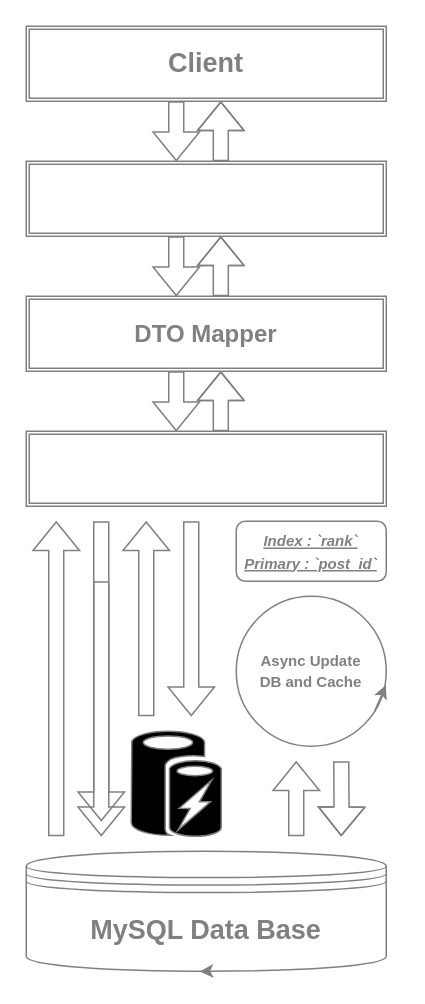
Some shapes in this 425 by 1004 pixel diagram are drawn without their labels. Each missing label, with the centre of its shape:
Controller layer: (x=205, y=198)
Service layer: (x=205, y=468)
